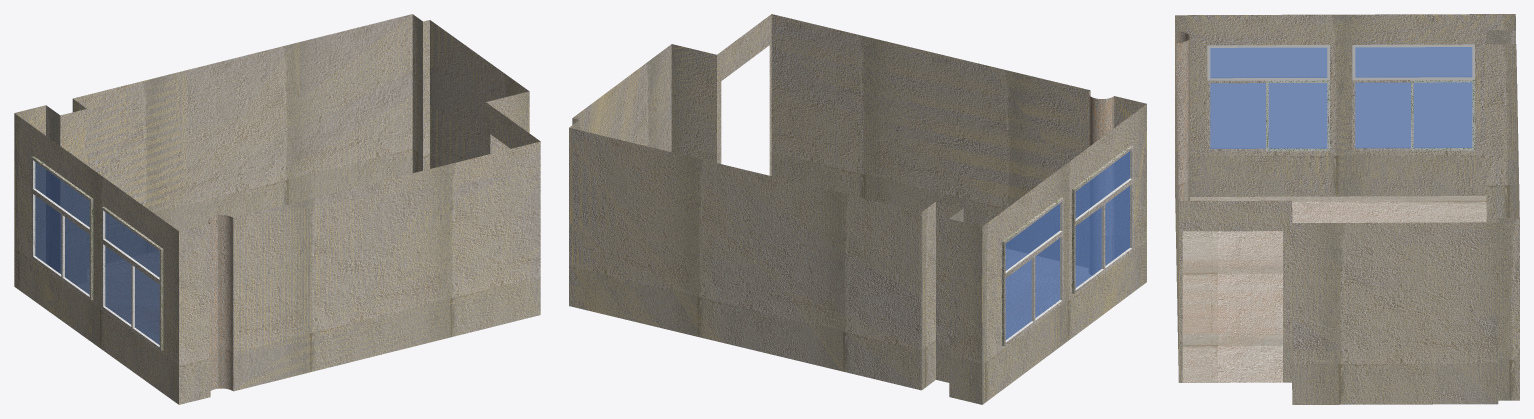
File: AUL021.obj
3 views of the same model, side by side, from view 1: azimuth 30°, elevation 25°; view 2: azimuth 150°, elevation 25°; view 3: azimuth 270°, elevation 25° (orthographic). The views are drawn at different scales.
Visible parts, largest first — view 1: Mesh13 AUL021 Model, Mesh7 ventana1_2_2 AUL021 Model, Mesh1 ventana1_2_1 AUL021 Model; view 2: Mesh13 AUL021 Model, Mesh1 ventana1_2_1 AUL021 Model, Mesh7 ventana1_2_2 AUL021 Model; view 3: Mesh13 AUL021 Model, Mesh7 ventana1_2_2 AUL021 Model, Mesh1 ventana1_2_1 AUL021 Model.
Boxes of the visible parts, bbox=[...] form: Mesh13 AUL021 Model: bbox=[14, 14, 540, 404]; Mesh7 ventana1_2_2 AUL021 Model: bbox=[31, 156, 93, 300]; Mesh1 ventana1_2_1 AUL021 Model: bbox=[101, 206, 163, 350]; Mesh13 AUL021 Model: bbox=[569, 14, 1146, 404]; Mesh1 ventana1_2_1 AUL021 Model: bbox=[1072, 145, 1133, 293]; Mesh7 ventana1_2_2 AUL021 Model: bbox=[1002, 197, 1063, 346]; Mesh13 AUL021 Model: bbox=[1175, 14, 1519, 404]; Mesh7 ventana1_2_2 AUL021 Model: bbox=[1352, 44, 1474, 150]; Mesh1 ventana1_2_1 AUL021 Model: bbox=[1207, 45, 1329, 151].
Size of the model in its own units: 8.92 by 3.6 by 6.18.
Materials: 8 (2 with a texture image).
